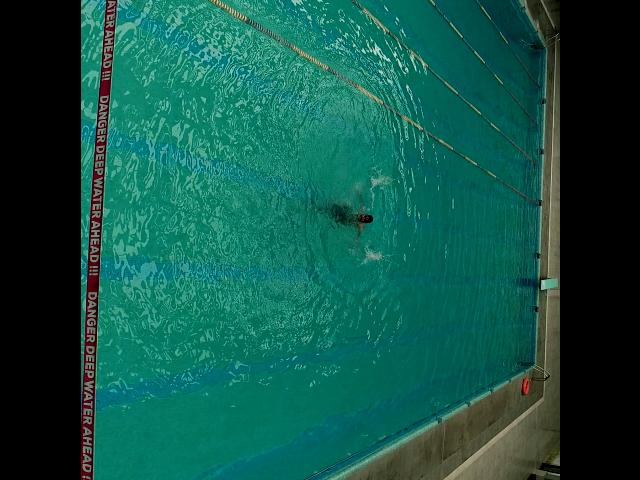drowning: (324, 188, 374, 240)
